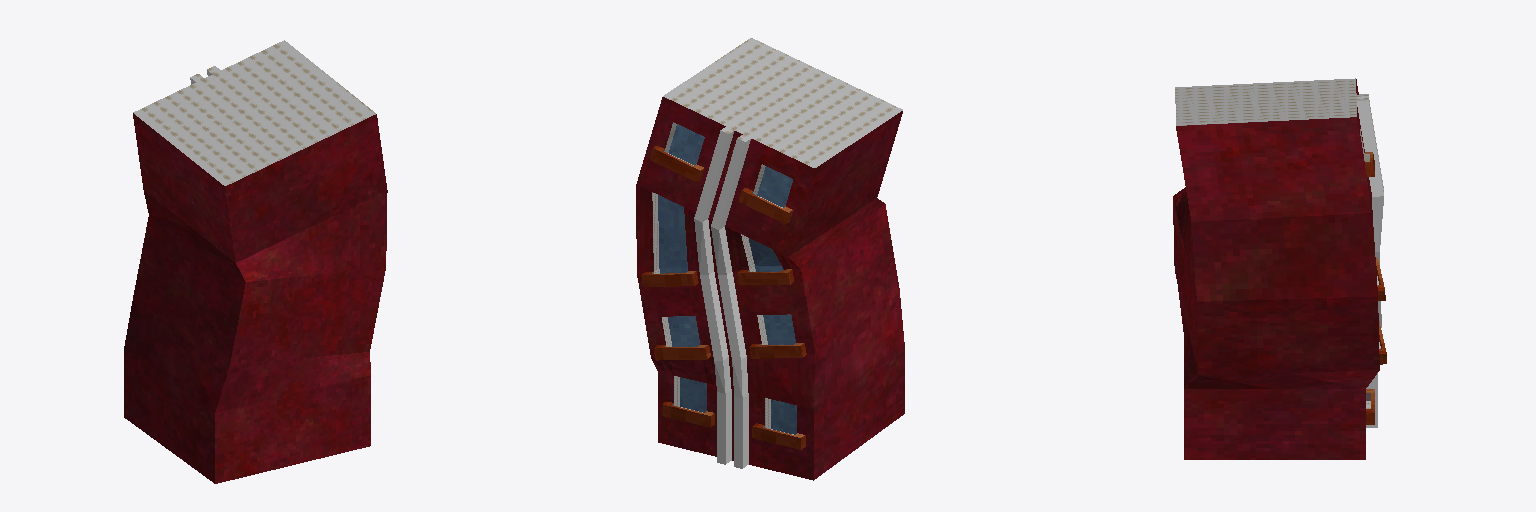
3 renders of one model, left to right at view 1: azimuth 30°, elevation 25°; view 2: azimuth 150°, elevation 25°; view 3: azimuth 270°, elevation 25°, orthographic.
Visible parts, largest first — view 1: ciudad_polySurface74_ciudad_ciudad_polySurface56; view 2: ciudad_polySurface74_ciudad_ciudad_polySurface56; view 3: ciudad_polySurface74_ciudad_ciudad_polySurface56.
Boxes of the visible parts, <box> form: ciudad_polySurface74_ciudad_ciudad_polySurface56: <box>124,40,387,483</box>; ciudad_polySurface74_ciudad_ciudad_polySurface56: <box>636,38,904,480</box>; ciudad_polySurface74_ciudad_ciudad_polySurface56: <box>1173,78,1386,459</box>.
Size of the model in its own units: 22.17 by 40.99 by 23.22.
Materials: 6 (5 with a texture image).